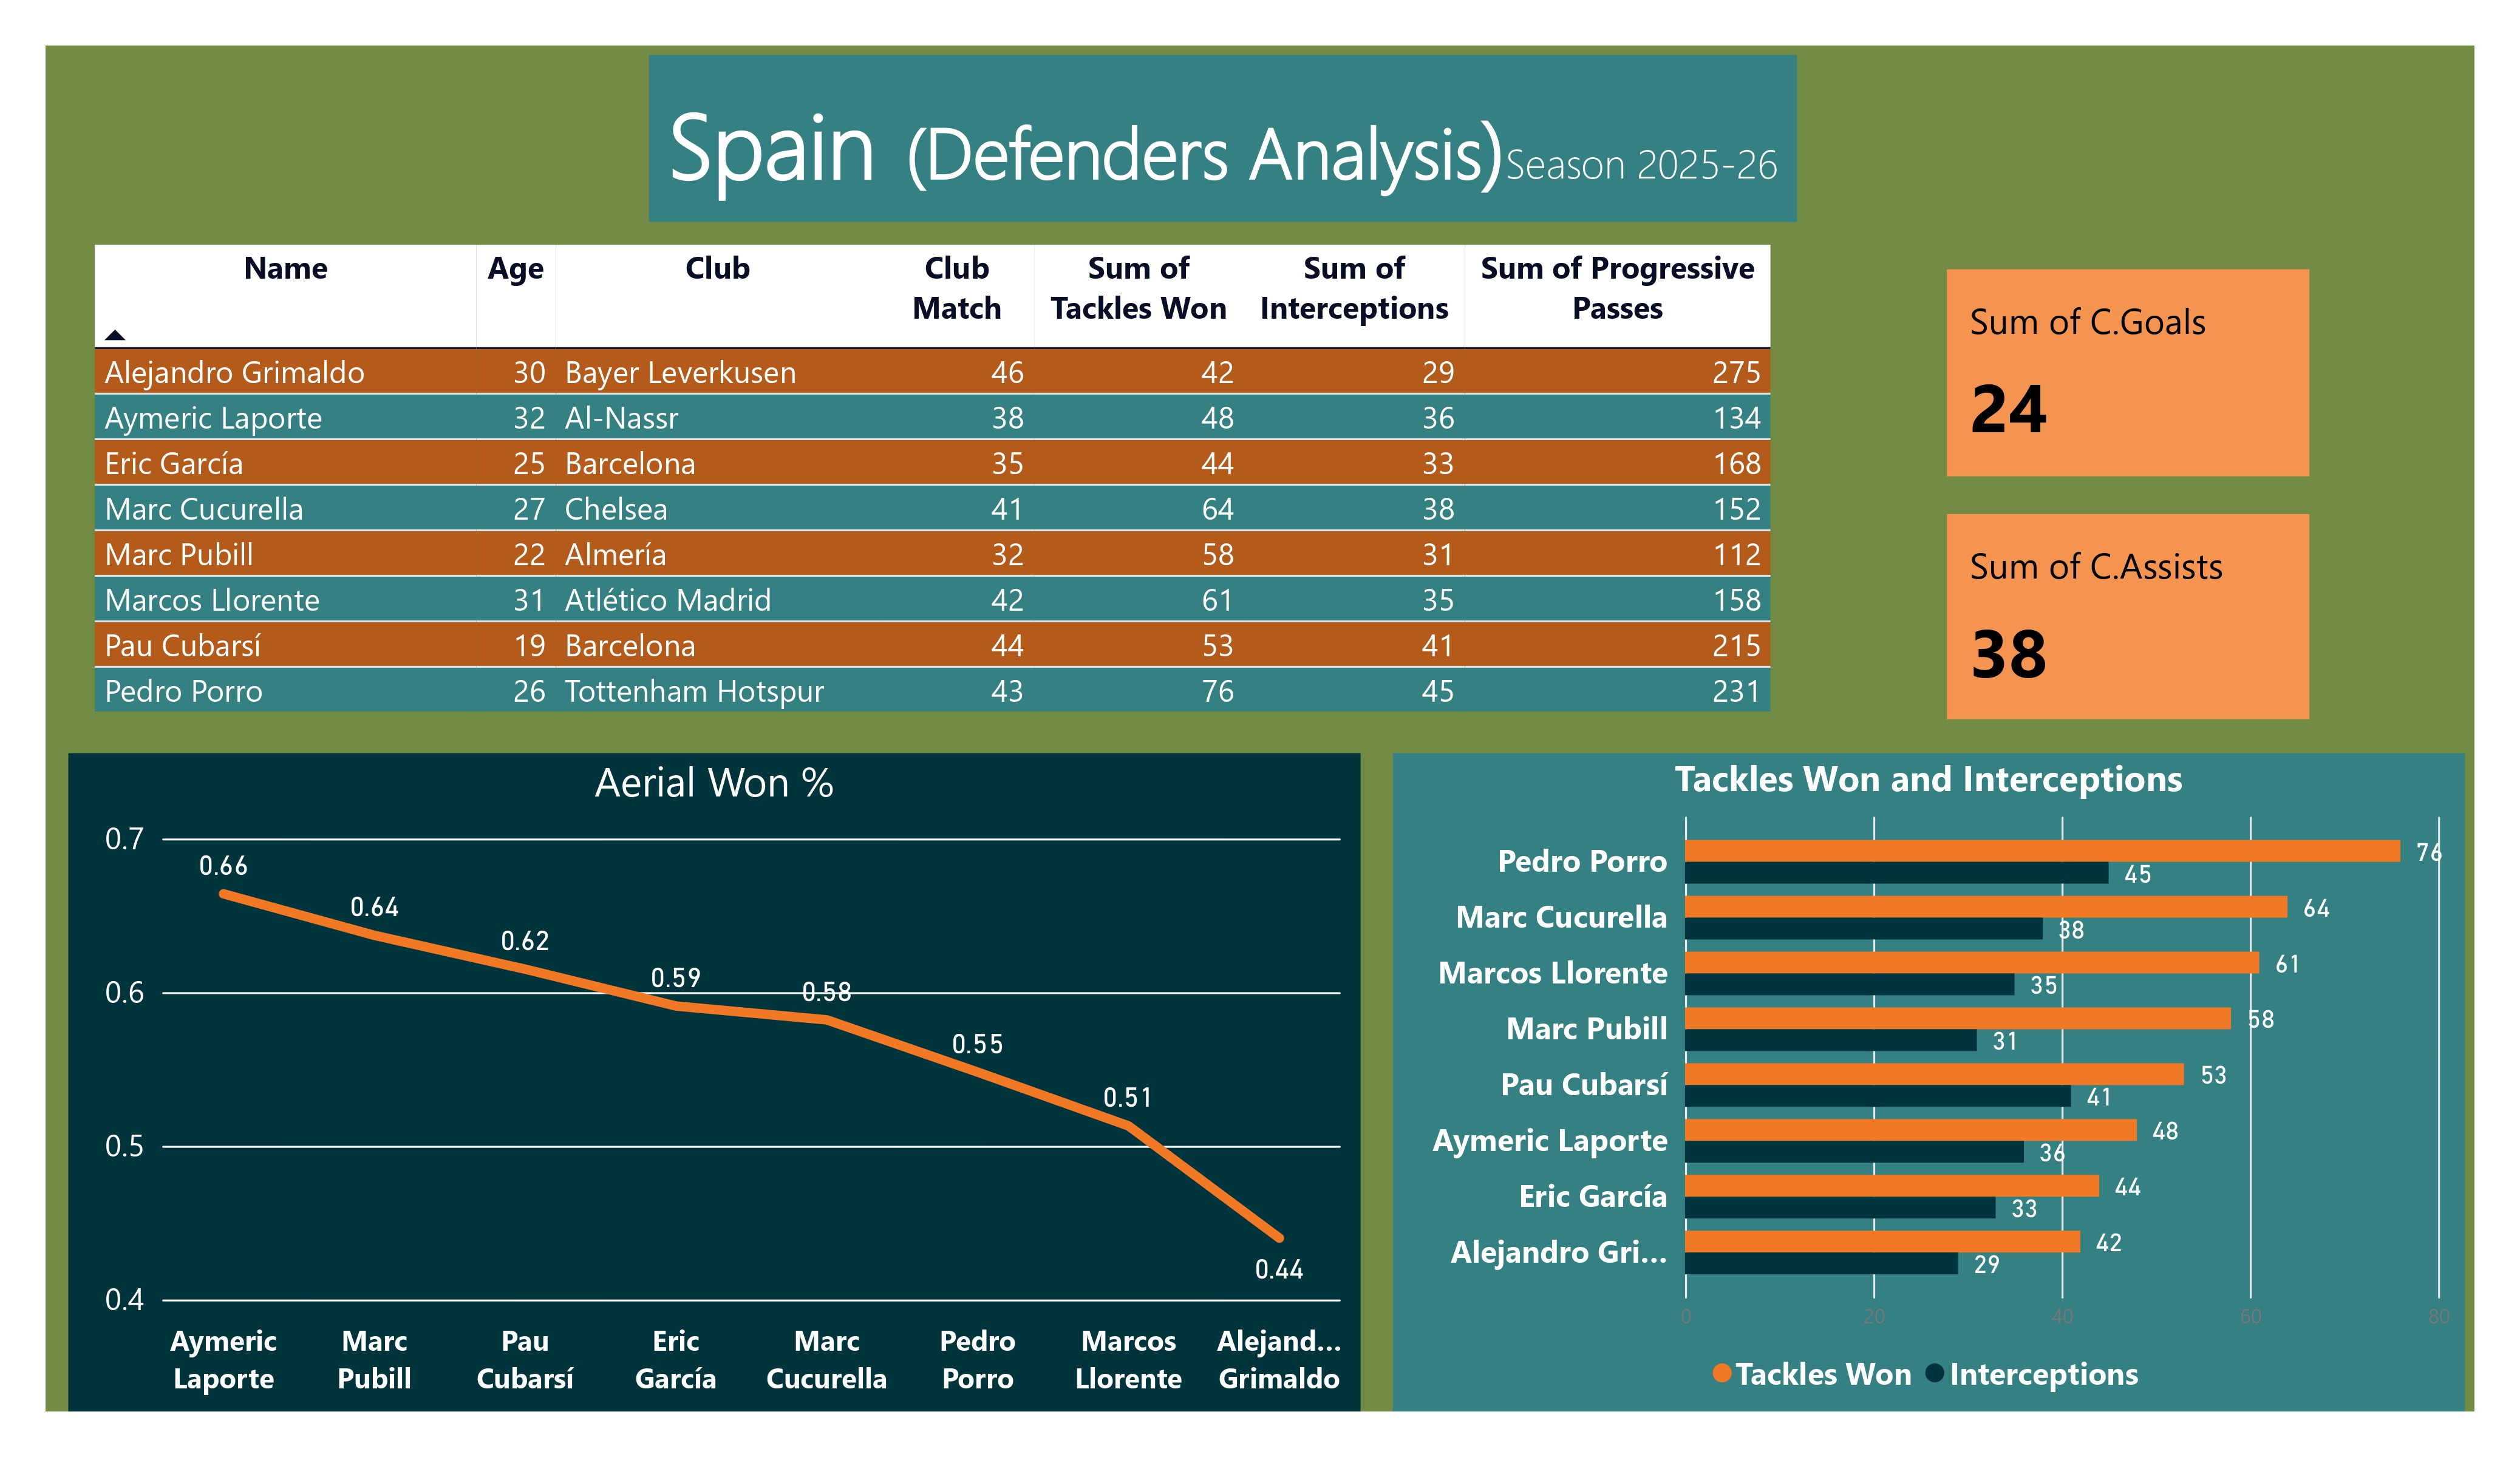

The page's visual inventory and layout, read from the dashboard file:
{"tool":"powerbi","page":{"name":"Defenders","canvas":[1280,720],"ordinal":2},"visuals":[{"type":"slicer","fields":{"Values":["Sheet1.Position"]},"box":[995.9,522.4,246.5,181.2],"z":0},{"type":"lineChart","title":"Aerial Won % ","fields":{"Category":["Sheet1.Name"],"Y":["Sum(Sheet1.Aerial Won %)"]},"box":[11.7,373.3,681.7,346.7],"z":1000},{"type":"cardVisual","fields":{"Data":["Sum(Sheet1.C.Goals)"]},"box":[996.7,113.3,201.7,118.3],"z":2000},{"type":"cardVisual","fields":{"Data":["Sum(Sheet1.C.Assists)"]},"box":[996.7,241.7,201.7,118.3],"z":3000},{"type":"clusteredBarChart","title":"Tackles Won and Interceptions","fields":{"Category":["Sheet1.Name"],"Y":["Sum(Sheet1.Tackles Won)","Sum(Sheet1.Interceptions)"]},"box":[710,373.3,565,346.7],"z":4000},{"type":"tableEx","fields":{"Values":["Sheet1.Name","Sheet1.Age","Sheet1.Club","Sheet1.Club Match","Sum(Sheet1.Tackles Won)","Sum(Sheet1.Interceptions)","Sum(Sheet1.Progressive Passes )"]},"box":[20,100,900,256.7],"z":5000},{"type":"textbox","box":[318.3,5,605,88.3],"z":6000}]}

Visuals, with their boxes on the page's 1280x720 design canvas (x1, y1, x2, y2). These are canvas units, not pixel positions in the 2520x1457 screenshot, which may show the page scaled, cropped or inside an application window:
slicer - Sheet1.Position: l=996, t=522, r=1242, b=704
"Aerial Won % " lineChart: l=12, t=373, r=693, b=720
cardVisual - Sum(Sheet1.C.Goals): l=997, t=113, r=1198, b=232
cardVisual - Sum(Sheet1.C.Assists): l=997, t=242, r=1198, b=360
"Tackles Won and Interceptions" clusteredBarChart: l=710, t=373, r=1275, b=720
tableEx - Sheet1.Name x Sheet1.Age: l=20, t=100, r=920, b=357
textbox: l=318, t=5, r=923, b=93
